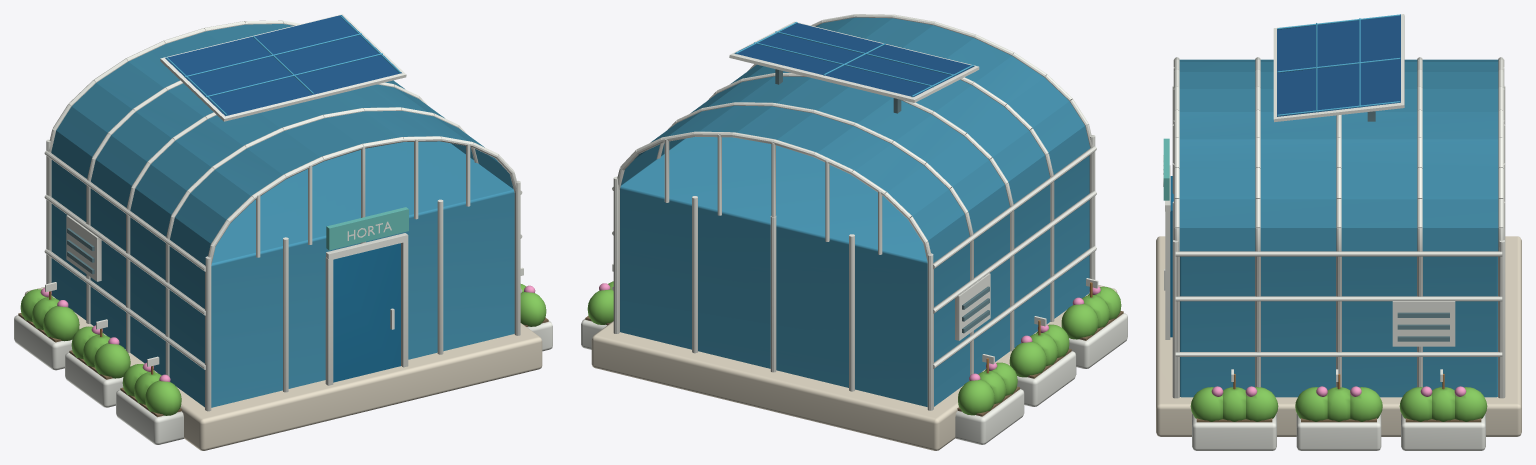
File: greenhouse.glb
The picture shows the model from 3 angles, left to right: view 1: azimuth 30°, elevation 25°; view 2: azimuth 150°, elevation 25°; view 3: azimuth 270°, elevation 25°; orthographic projection. The views are drawn at different scales.
Visible parts, largest first — view 1: glasshouse, roof rib, greenhouse foundation, photovoltaic cells, greenhouse door, plant, botanical name board, vent slat; view 2: glasshouse, roof rib, greenhouse foundation, photovoltaic cells, plant, vent slat; view 3: glasshouse, roof rib, photovoltaic cells, greenhouse foundation, plant, vent slat, soil, flower, greenhouse door, botanical name board.
Boxes of the visible parts, x1=… form: glasshouse: x1=51, y1=15, x2=514, y2=407; roof rib: x1=14, y1=14, x2=552, y2=444; greenhouse foundation: x1=24, y1=287, x2=542, y2=450; photovoltaic cells: x1=165, y1=15, x2=401, y2=116; greenhouse door: x1=333, y1=243, x2=400, y2=382; plant: x1=20, y1=284, x2=546, y2=415; botanical name board: x1=326, y1=207, x2=408, y2=250; vent slat: x1=67, y1=228, x2=94, y2=274; glasshouse: x1=620, y1=17, x2=1090, y2=406; roof rib: x1=581, y1=14, x2=1127, y2=444; greenhouse foundation: x1=591, y1=285, x2=1117, y2=450; photovoltaic cells: x1=734, y1=23, x2=974, y2=96; plant: x1=587, y1=281, x2=1121, y2=415; vent slat: x1=775, y1=69, x2=989, y2=333; glasshouse: x1=1179, y1=14, x2=1498, y2=397; roof rib: x1=1163, y1=14, x2=1505, y2=450; photovoltaic cells: x1=1277, y1=14, x2=1400, y2=116; greenhouse foundation: x1=1156, y1=236, x2=1521, y2=436; plant: x1=1190, y1=387, x2=1487, y2=421; vent slat: x1=1367, y1=111, x2=1449, y2=341; soil: x1=1196, y1=418, x2=1481, y2=422; flower: x1=1211, y1=386, x2=1466, y2=396; greenhouse door: x1=1170, y1=176, x2=1173, y2=337; botanical name board: x1=1163, y1=138, x2=1169, y2=200.
Bounding box in the file's own units: 3.61 × 2.49 × 2.8.
